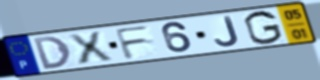6: (160, 20, 194, 55)
D: (31, 34, 73, 71)
F: (112, 24, 153, 61)
G: (242, 9, 285, 46)
J: (213, 15, 242, 48)
X: (65, 30, 116, 66)
